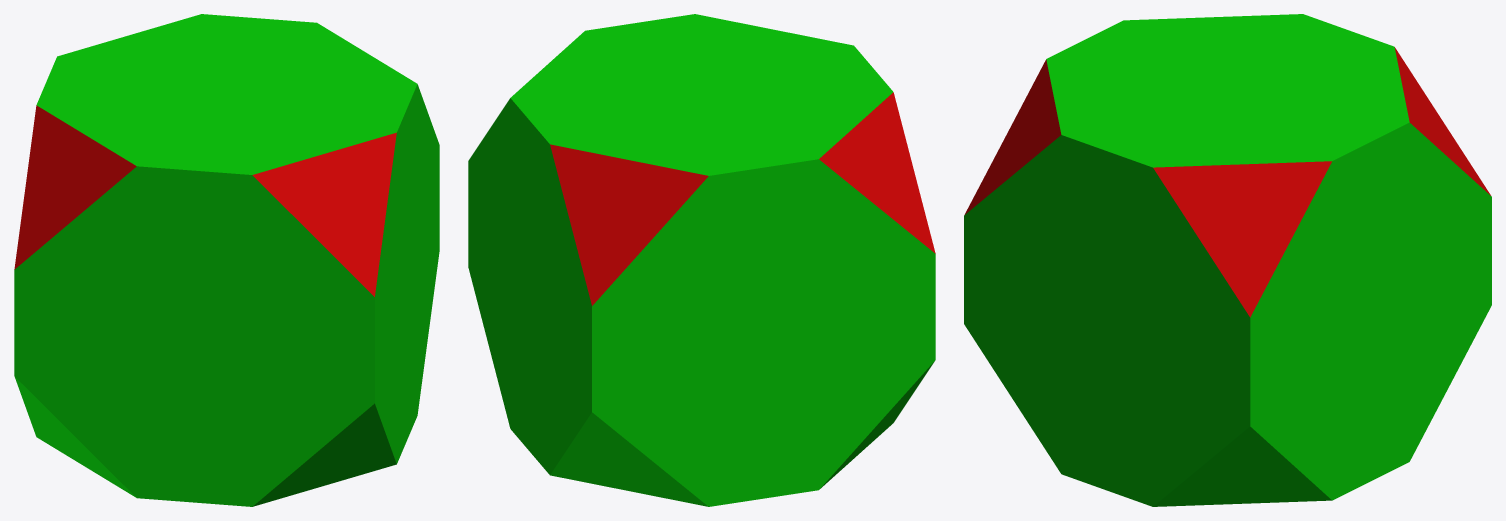
The model's file is anim_cube_000054.obj.
3 views of the same model, side by side, from view 1: azimuth 30°, elevation 25°; view 2: azimuth 150°, elevation 25°; view 3: azimuth 270°, elevation 25° (orthographic). The views are drawn at different scales.
Visible parts, largest first — view 1: Cube_Cube.002_Material.002, Cube_Cube.002_Material.001; view 2: Cube_Cube.002_Material.002, Cube_Cube.002_Material.001; view 3: Cube_Cube.002_Material.002, Cube_Cube.002_Material.001.
Part boxes in pixels (x1=…): Cube_Cube.002_Material.002: x1=14, y1=14, x2=439, y2=506; Cube_Cube.002_Material.001: x1=14, y1=105, x2=396, y2=296; Cube_Cube.002_Material.002: x1=468, y1=14, x2=935, y2=506; Cube_Cube.002_Material.001: x1=550, y1=92, x2=935, y2=305; Cube_Cube.002_Material.002: x1=964, y1=14, x2=1491, y2=506; Cube_Cube.002_Material.001: x1=964, y1=47, x2=1490, y2=317.
Bounding box in the file's own units: 4.36 × 3.09 × 4.36.
